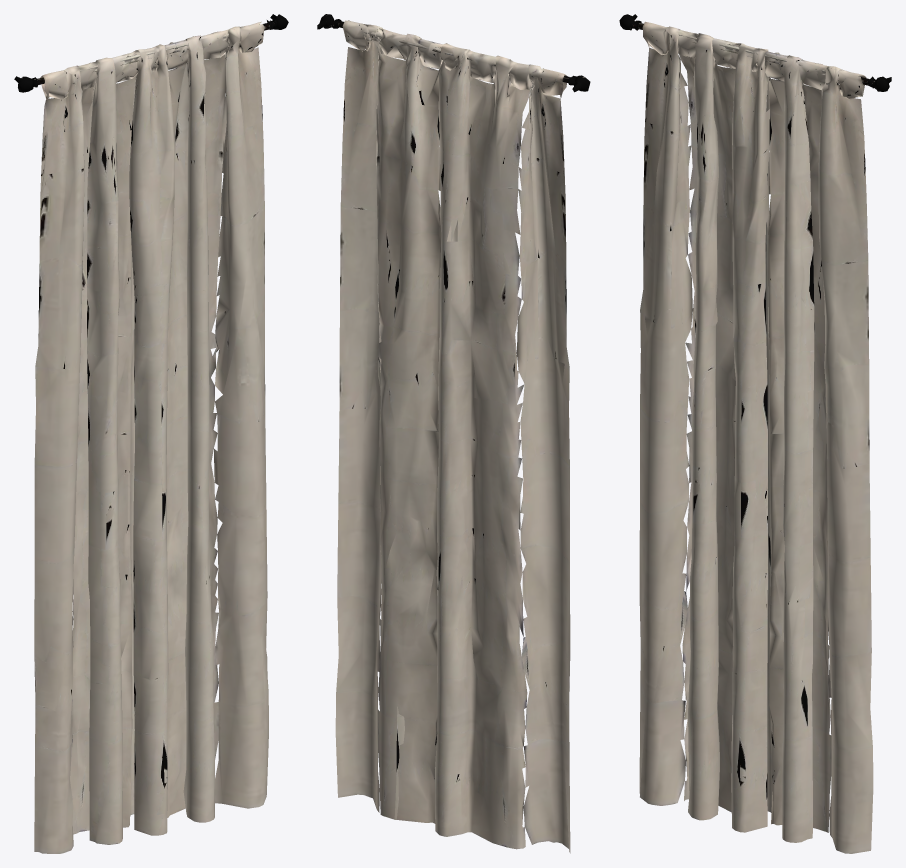
File: mobile.glb
The picture shows the model from 3 angles, left to right: view 1: azimuth 30°, elevation 25°; view 2: azimuth 150°, elevation 25°; view 3: azimuth 330°, elevation 25°; orthographic projection.
Visible parts, largest first — view 1: curtain; view 2: curtain; view 3: curtain.
Part boxes in pixels (x1,y1,x2,y2): curtain: (14, 14, 288, 853); curtain: (317, 14, 590, 853); curtain: (619, 14, 891, 853).
Size of the model in its own units: 0.8302 by 2.3 by 0.1512.
Materials: 1 (1 with a texture image).
